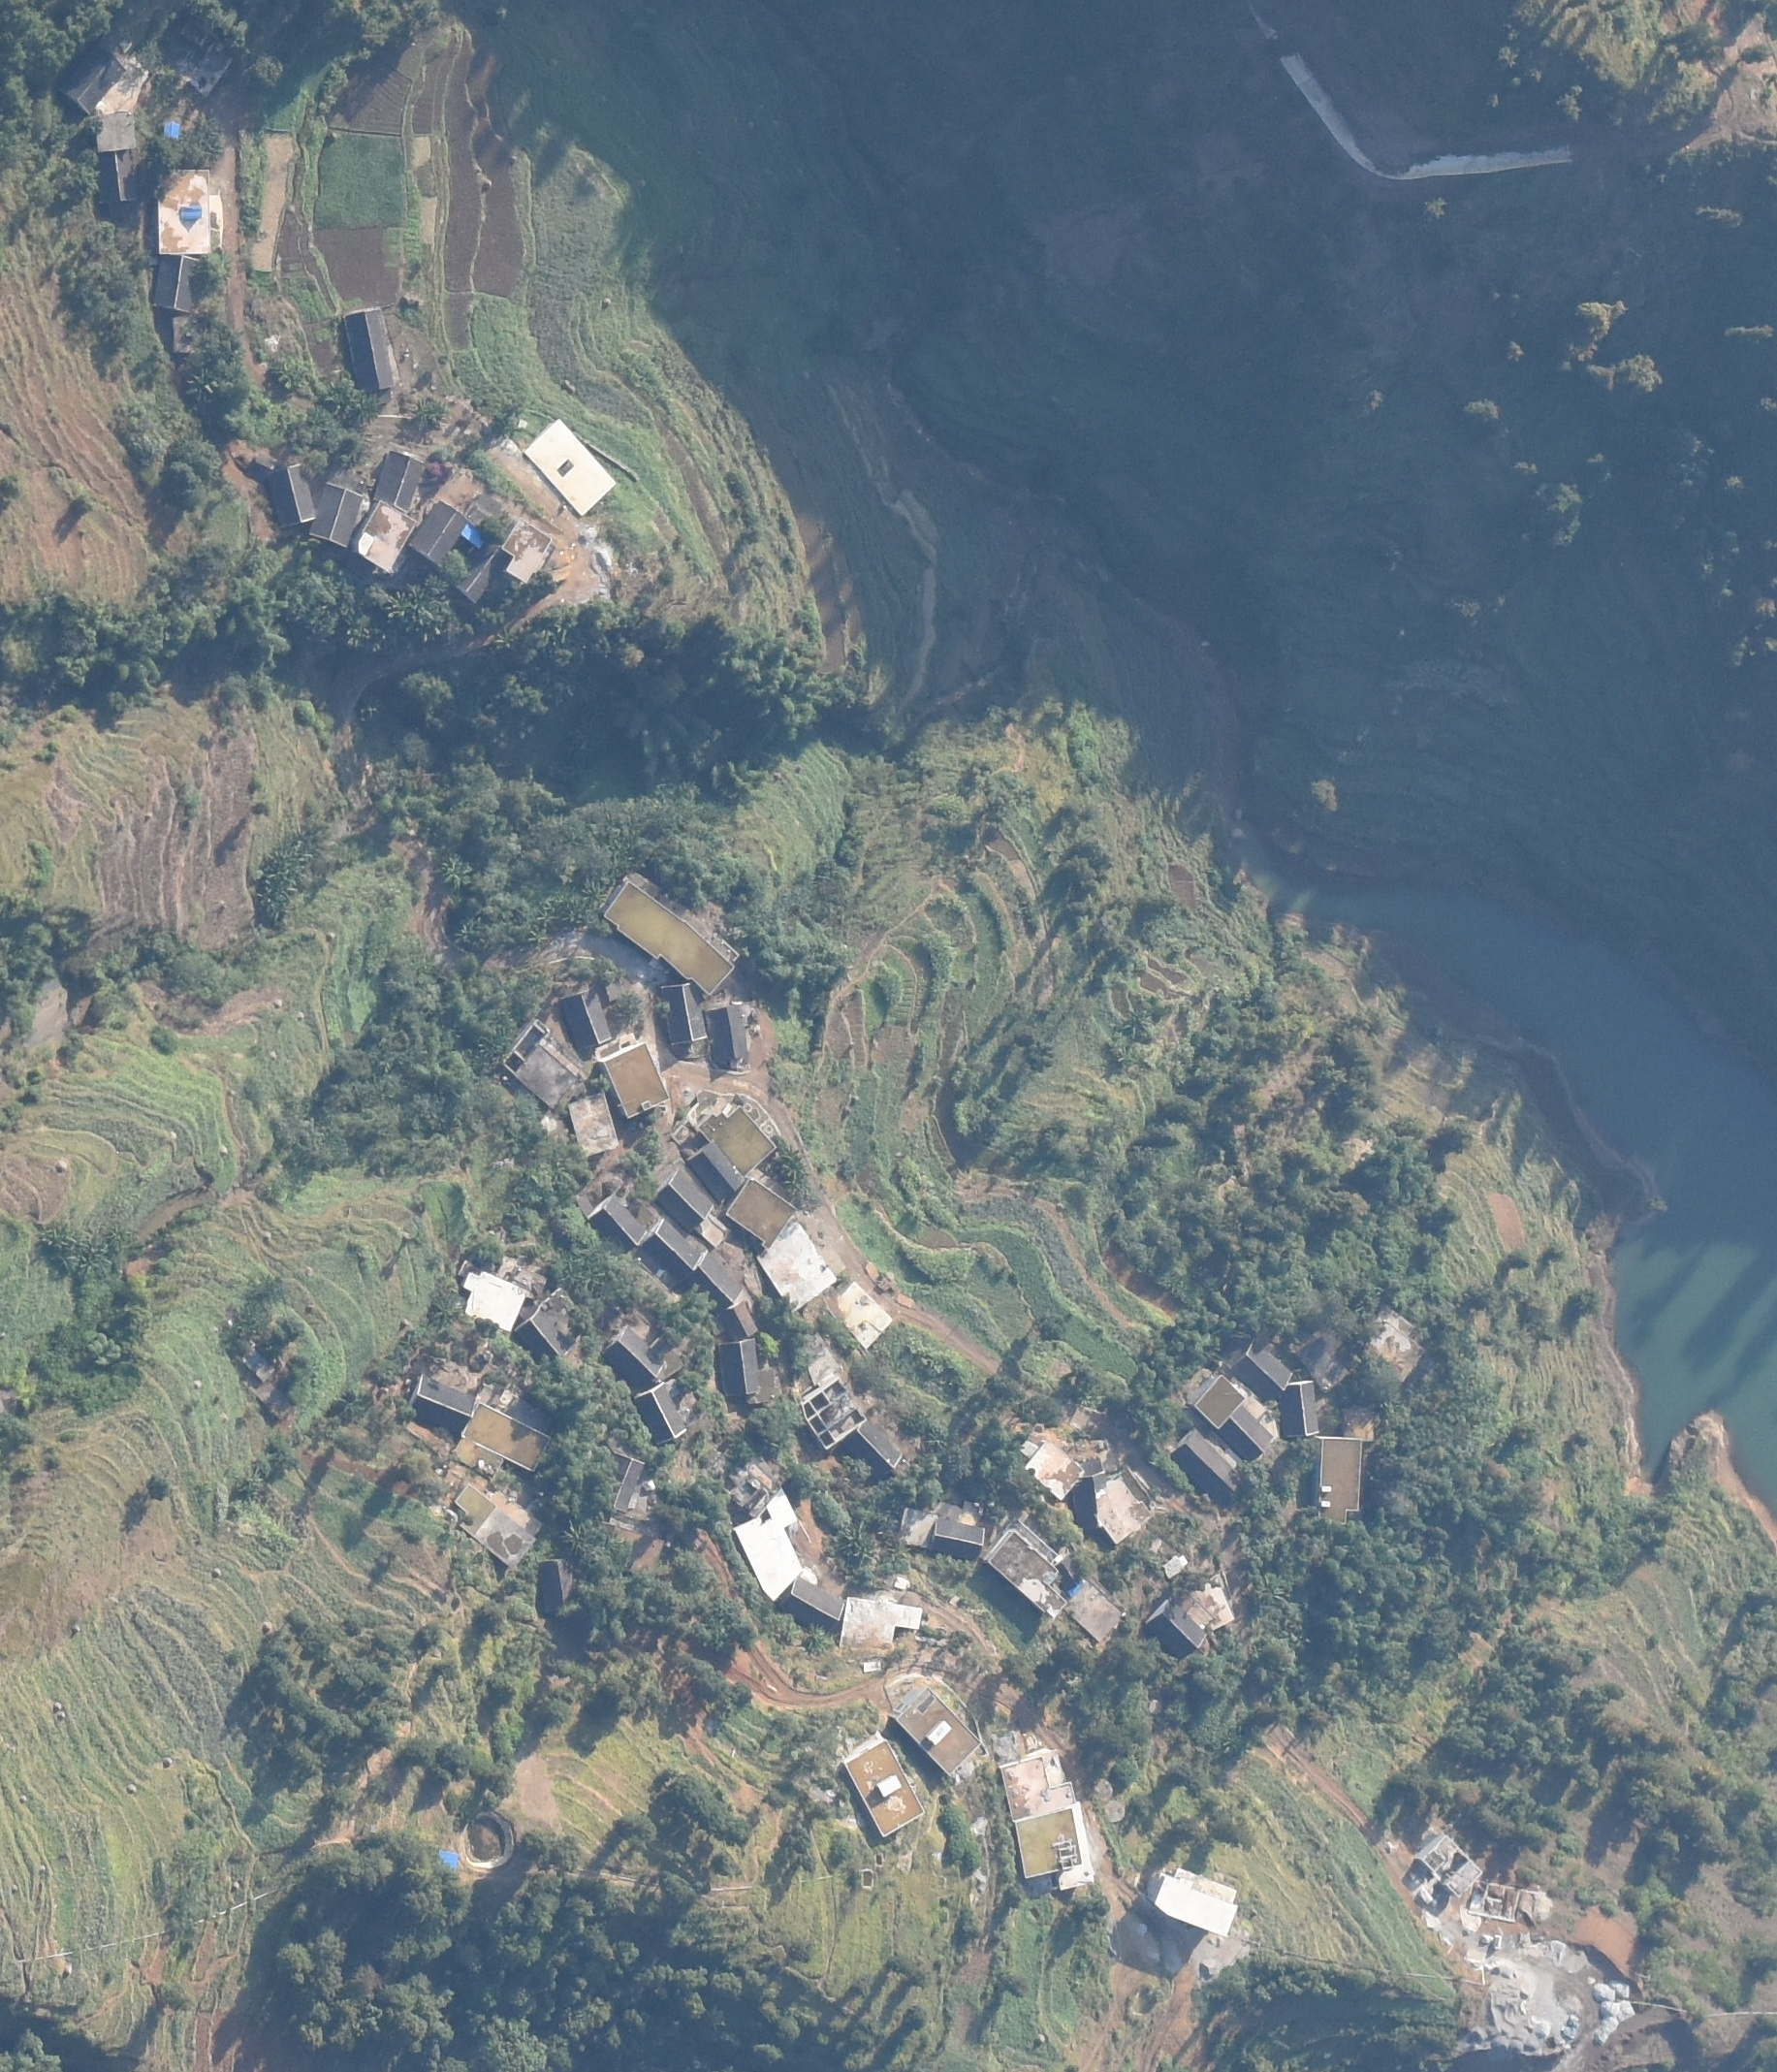building: (602, 884, 733, 995), (1002, 1750, 1092, 1889), (527, 416, 622, 518), (727, 1471, 803, 1598), (889, 1686, 983, 1781), (1148, 1862, 1243, 1943), (842, 1741, 919, 1839), (1192, 1374, 1277, 1461), (986, 1526, 1064, 1619), (463, 1404, 562, 1473), (453, 1485, 532, 1568), (460, 1258, 544, 1336), (754, 1228, 833, 1309), (62, 42, 151, 113), (157, 167, 225, 259), (1148, 1584, 1233, 1656), (1169, 1425, 1245, 1503), (1083, 1466, 1159, 1542), (502, 1025, 571, 1105), (837, 1596, 925, 1658), (340, 303, 398, 396), (350, 502, 412, 581), (699, 1108, 771, 1175), (608, 1045, 669, 1121), (722, 1180, 794, 1244), (900, 1510, 984, 1563), (1058, 1579, 1125, 1644), (1418, 1832, 1481, 1901), (92, 111, 139, 201), (833, 1286, 896, 1353), (1365, 1311, 1427, 1380), (1317, 1439, 1365, 1526), (409, 502, 467, 573), (717, 1336, 775, 1406), (1018, 1438, 1081, 1501), (560, 988, 618, 1057), (652, 1168, 715, 1228), (842, 1420, 902, 1480), (562, 1092, 620, 1154), (261, 465, 319, 525), (497, 522, 553, 583), (645, 1217, 701, 1279), (511, 1307, 572, 1362), (601, 1325, 662, 1380), (657, 981, 708, 1047), (638, 1381, 689, 1447), (312, 485, 361, 551), (402, 1383, 479, 1425), (1300, 1330, 1358, 1387), (590, 1195, 646, 1251), (146, 257, 204, 312), (372, 455, 426, 513), (685, 1140, 743, 1195), (1233, 1341, 1286, 1399), (604, 1445, 645, 1517), (537, 1563, 588, 1619), (454, 550, 502, 610), (689, 1254, 740, 1309), (782, 1577, 842, 1621), (710, 1004, 750, 1066), (1280, 1385, 1317, 1439), (171, 315, 210, 354), (720, 1306, 759, 1341), (1340, 1408, 1375, 1443)
prefabricated-house: (431, 1848, 460, 1878), (463, 522, 488, 555), (162, 120, 180, 137)
quarry: (1427, 1913, 1631, 2060)
well: (1102, 1799, 1125, 1824), (1092, 1781, 1113, 1801)
